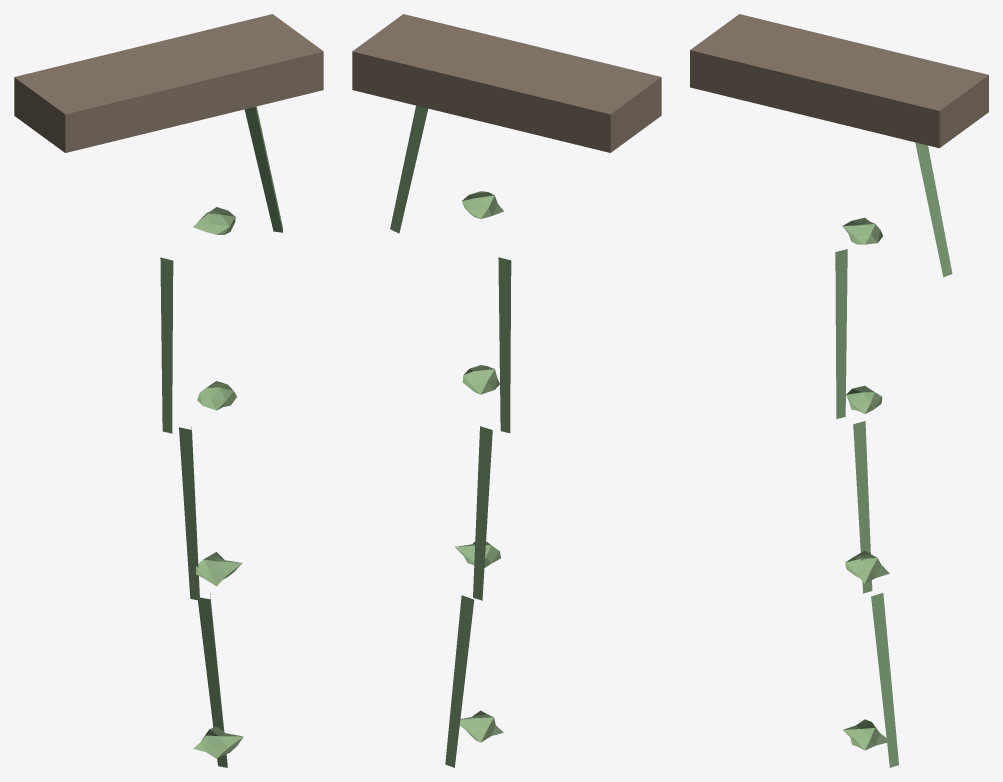
File: vine_v34.glb
The picture shows the model from 3 angles, left to right: view 1: azimuth 30°, elevation 25°; view 2: azimuth 150°, elevation 25°; view 3: azimuth 330°, elevation 25°; orthographic projection. The views are drawn at different scales.
Parts seen in each view (by area): view 1: lod0; view 2: lod0; view 3: lod0.
Part boxes in pixels (bbox=[...]): lod0: bbox=[14, 14, 323, 767]; lod0: bbox=[352, 14, 661, 767]; lod0: bbox=[690, 14, 988, 767].
Size of what is drawn, in the model's own units: 0.7 by 1.85 by 0.24.
